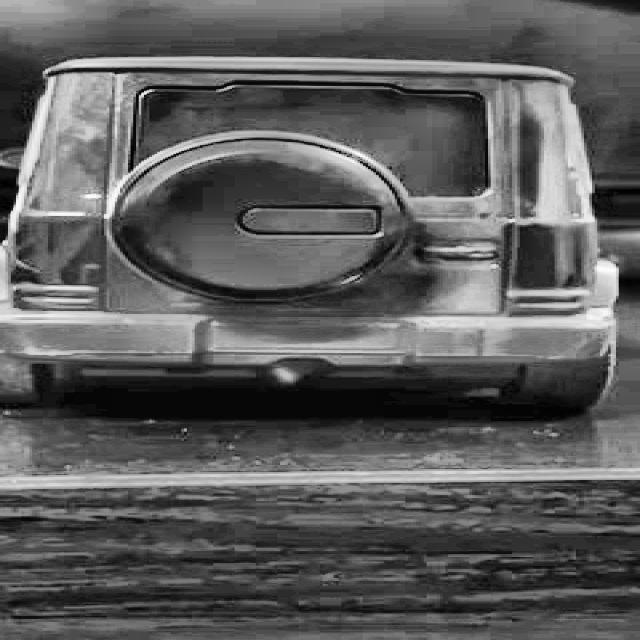light_vehicle: (0, 60, 635, 428)
